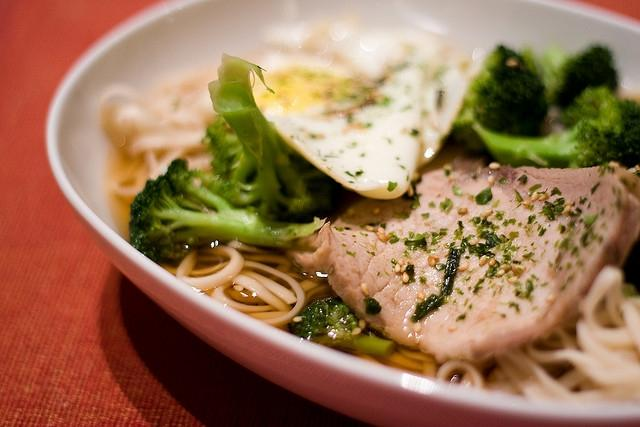broccoli: (202, 53, 344, 222), (130, 158, 327, 262), (476, 88, 636, 169), (443, 44, 548, 158), (286, 295, 396, 356), (536, 40, 618, 108)
